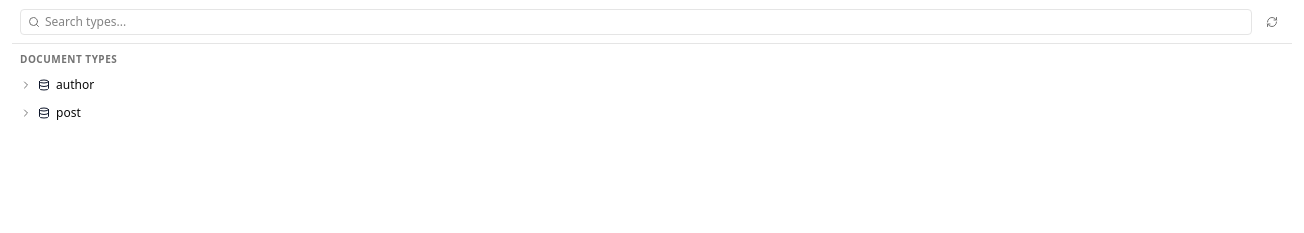
Test: SchemaPanel › handles mutual circular references (A→B→A) without crashing
Click the button "author": (75,84) [12,71,1292,99]
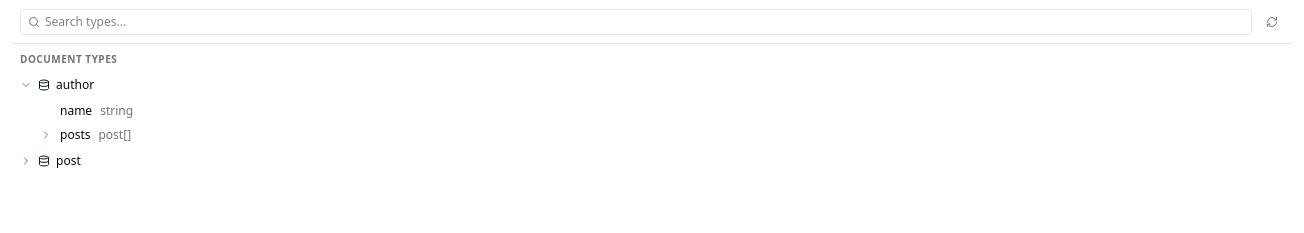
Check: the text "name" is shown, box [60,103,92,119]
Check: the text "posts" is shown
Click the text "posts": (75,135) [60,127,90,143]
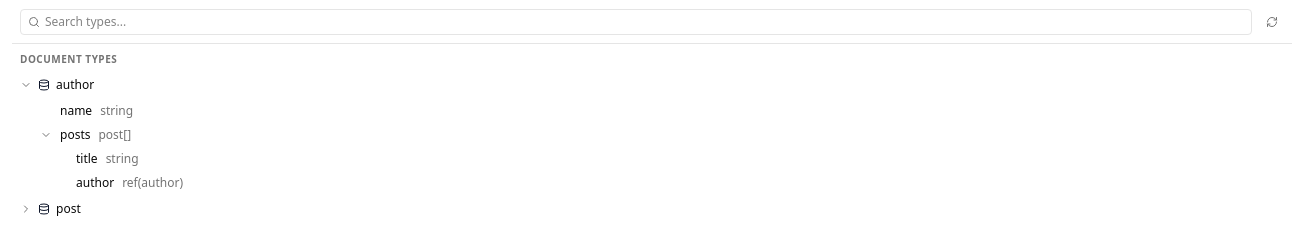
Check: the text "title" is shown, box [76,151,98,167]
